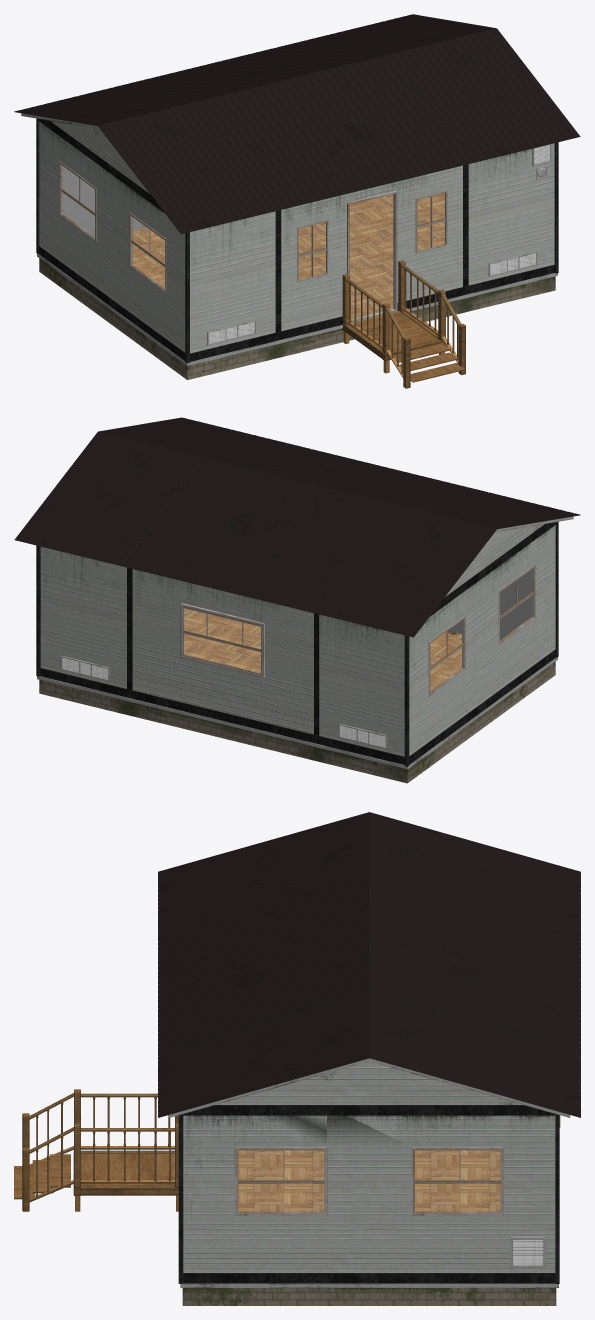
File: House_01.fbx
3 renders of one model, top to bottom at view 1: azimuth 30°, elevation 25°; view 2: azimuth 150°, elevation 25°; view 3: azimuth 270°, elevation 25°, orthographic. The views are drawn at different scales.
Parts seen in each view (by area): view 1: House_01__391662:House_01_1, House_01__391662:House_01_0; view 2: House_01__391662:House_01_1, House_01__391662:House_01_0; view 3: House_01__391662:House_01_1, House_01__391662:House_01_0.
Boxes of the visible parts, x1=… form: House_01__391662:House_01_1: x1=14, y1=14, x2=580, y2=388; House_01__391662:House_01_0: x1=59, y1=161, x2=447, y2=322; House_01__391662:House_01_1: x1=14, y1=417, x2=580, y2=783; House_01__391662:House_01_0: x1=180, y1=564, x2=535, y2=696; House_01__391662:House_01_1: x1=14, y1=812, x2=580, y2=1305; House_01__391662:House_01_0: x1=235, y1=1115, x2=560, y2=1215.
Size of the model in its own units: 77.64 by 37.96 by 75.62.
2 materials, 2 textured.
